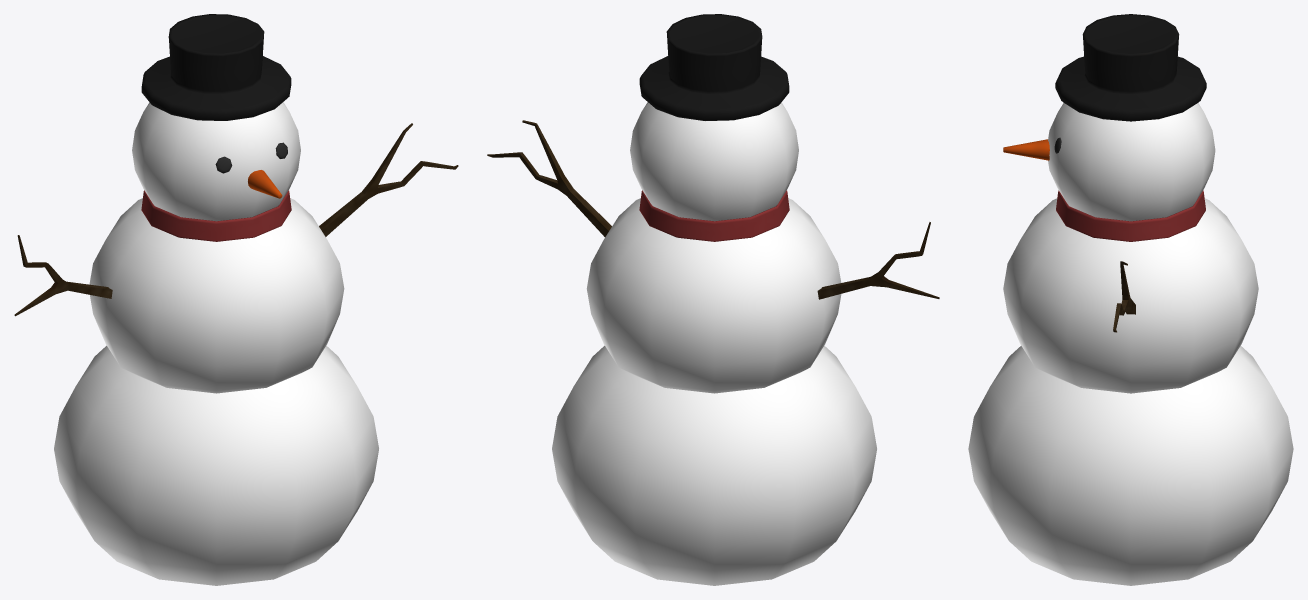
File: snowman.glb
3 views of the same model, side by side, from view 1: azimuth 30°, elevation 25°; view 2: azimuth 150°, elevation 25°; view 3: azimuth 270°, elevation 25° (orthographic).
Parts seen in each view (by area): view 1: body; view 2: body; view 3: body.
Boxes of the visible parts, x1,y1,x2,y2 form: body: [14, 14, 458, 585]; body: [487, 14, 939, 585]; body: [968, 14, 1293, 585].
Bounding box in the file's own units: 1.44 × 1.6 × 0.9052.
Materials: 1 (1 with a texture image).
